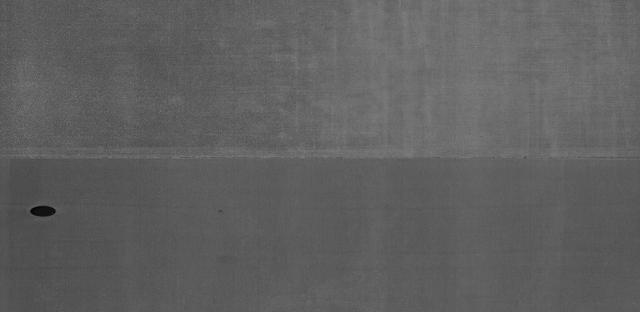punching_hole: (25, 202, 59, 220)
welding_line: (2, 147, 638, 168)
